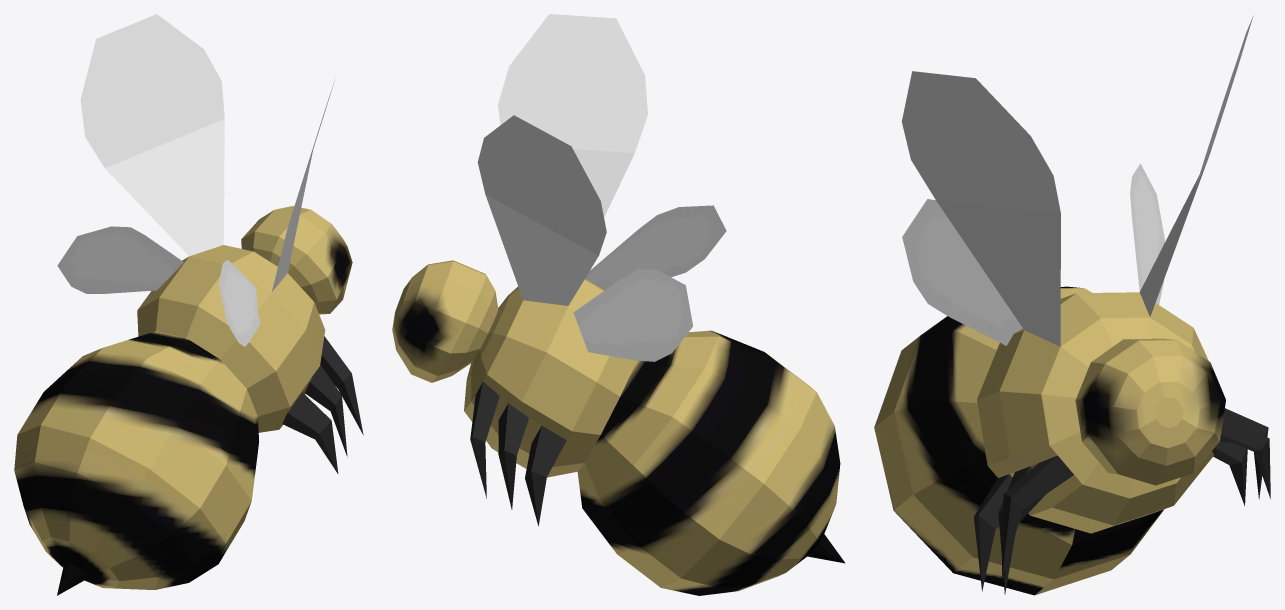
File: bee.gltf
The picture shows the model from 3 angles, left to right: view 1: azimuth 30°, elevation 25°; view 2: azimuth 150°, elevation 25°; view 3: azimuth 270°, elevation 25°; orthographic projection. The views are drawn at different scales.
Visible parts, largest first — view 1: bee; view 2: bee; view 3: bee.
Part boxes in pixels (x1,y1,x2,y2): bee: (14, 14, 363, 595); bee: (392, 14, 844, 595); bee: (874, 16, 1270, 595).
Bounding box in the file's own units: 0.3326 × 0.4287 × 0.2532.
Materials: 1 (1 with a texture image).
